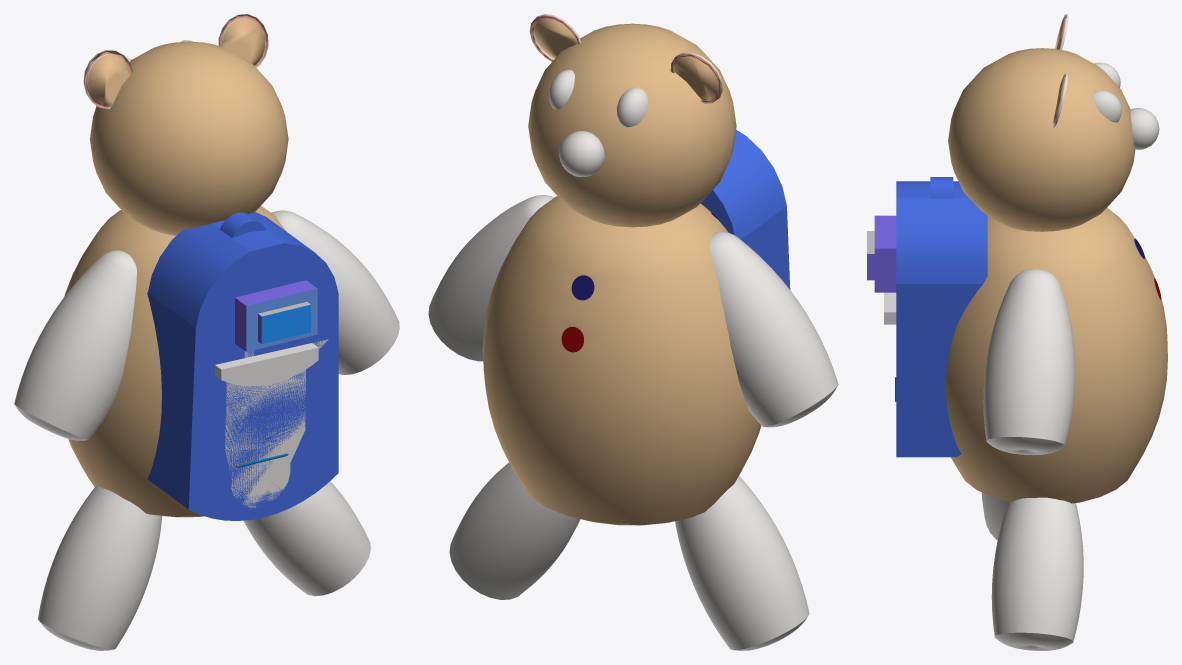
Rendered from bear.fbx.
3 views of the same model, side by side, from view 1: azimuth 30°, elevation 25°; view 2: azimuth 150°, elevation 25°; view 3: azimuth 270°, elevation 25° (orthographic). The views are drawn at different scales.
Parts seen in each view (by area): view 1: Model, ske152_1; view 2: Model, ske152_1; view 3: Model, ske152_1.
Part boxes in pixels (left/top/right/bottom): Model: left=14, top=14, right=399, bottom=650; ske152_1: left=147, top=212, right=338, bottom=520; Model: left=428, top=14, right=838, bottom=650; ske152_1: left=700, top=129, right=790, bottom=289; Model: left=867, top=14, right=1167, bottom=650; ske152_1: left=896, top=177, right=987, bottom=457.
Bounding box in the file's own units: 379 × 557 × 277.
